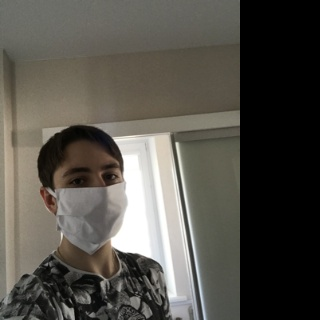with_mask: (53, 157, 128, 254)
